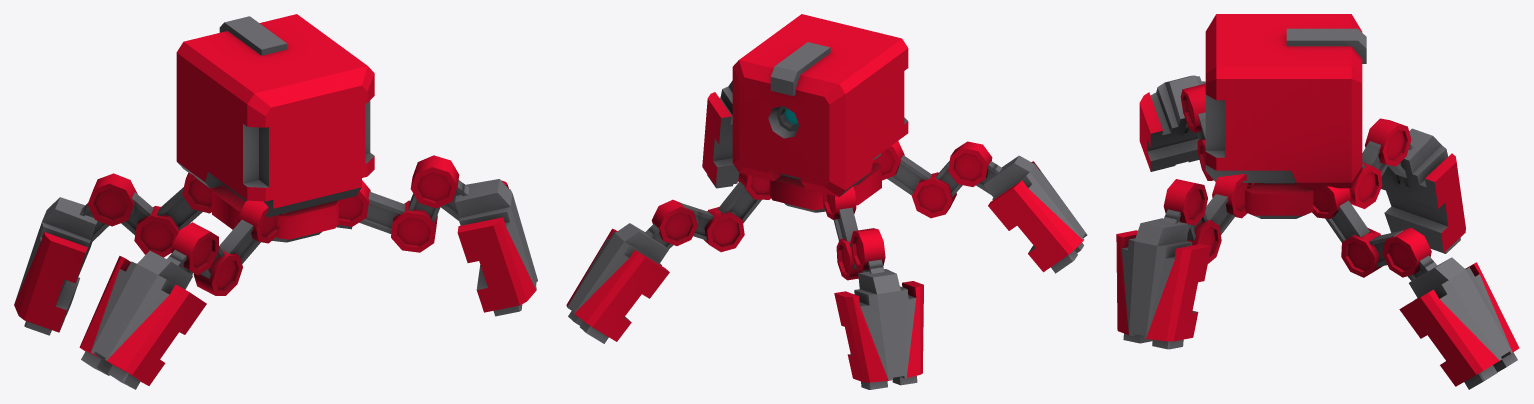
Rendered from Monster1_Move21.obj.
The picture shows the model from 3 angles, left to right: view 1: azimuth 30°, elevation 25°; view 2: azimuth 150°, elevation 25°; view 3: azimuth 270°, elevation 25°; orthographic projection. The views are drawn at different scales.
Visible parts, largest first — view 1: Box006, Object021, Object017, Object025, Object020, Object028, Object022, Object027, Object018, Object019, Object024, Object026 (+1 smaller); view 2: Box006, Object025, Object013, Object021, Object017, Object024, Object015, Object016, Object023, Object022, Object014, Object028 (+2 smaller); view 3: Box006, Object017, Object013, Object025, Object021, Object016, Object014, Object018, Object020, Object015, Object028, Object027 (+3 smaller).
Part boxes in pixels (box(x1,y1,x2,y2)): Box006: box(176, 14, 374, 242); Object021: box(79, 250, 206, 389); Object017: box(455, 179, 537, 316); Object025: box(14, 197, 97, 335); Object020: box(410, 155, 469, 220); Object028: box(79, 173, 137, 243); Object022: box(219, 200, 286, 263); Object027: box(121, 192, 179, 257); Object018: box(338, 180, 405, 233); Object019: box(391, 193, 440, 252); Object024: box(167, 222, 218, 274); Object026: box(157, 173, 224, 230); Box006: box(732, 14, 908, 212); Object025: box(834, 269, 923, 389); Object013: box(566, 223, 669, 343); Object021: box(983, 155, 1087, 273); Object017: box(702, 80, 739, 188); Object024: box(948, 141, 1001, 194); Object015: box(680, 203, 744, 252); Object016: box(644, 199, 698, 249); Object023: box(912, 161, 962, 218); Object022: box(872, 141, 931, 195); Object014: box(718, 173, 770, 223); Object028: box(850, 228, 885, 273); Box006: box(1205, 14, 1366, 218); Object017: box(1116, 218, 1210, 349); Object013: box(1399, 257, 1519, 389); Object025: box(1381, 128, 1465, 253); Object021: box(1139, 75, 1205, 171); Object016: box(1382, 227, 1437, 280); Object014: box(1310, 186, 1369, 242); Object018: box(1205, 174, 1254, 234); Object020: box(1163, 179, 1207, 232); Object015: box(1341, 228, 1403, 277); Object028: box(1365, 118, 1413, 177); Object027: box(1349, 141, 1388, 208).
Bounding box in the file's own units: 181 × 117 × 152.
